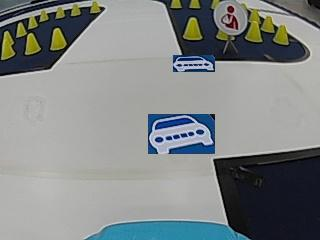cone: (183, 17, 203, 40), (245, 16, 262, 42), (1, 31, 15, 58), (50, 28, 66, 50), (25, 33, 41, 54), (273, 24, 288, 45), (262, 15, 274, 31), (27, 15, 39, 28), (16, 22, 27, 36), (70, 3, 81, 16), (89, 1, 100, 13), (39, 9, 49, 21), (55, 6, 65, 18), (170, 0, 182, 9), (189, 0, 200, 9)
patient: (214, 1, 247, 34)
